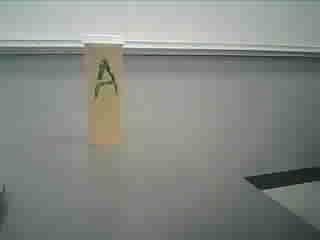Bottle A: (74, 26, 136, 156)
